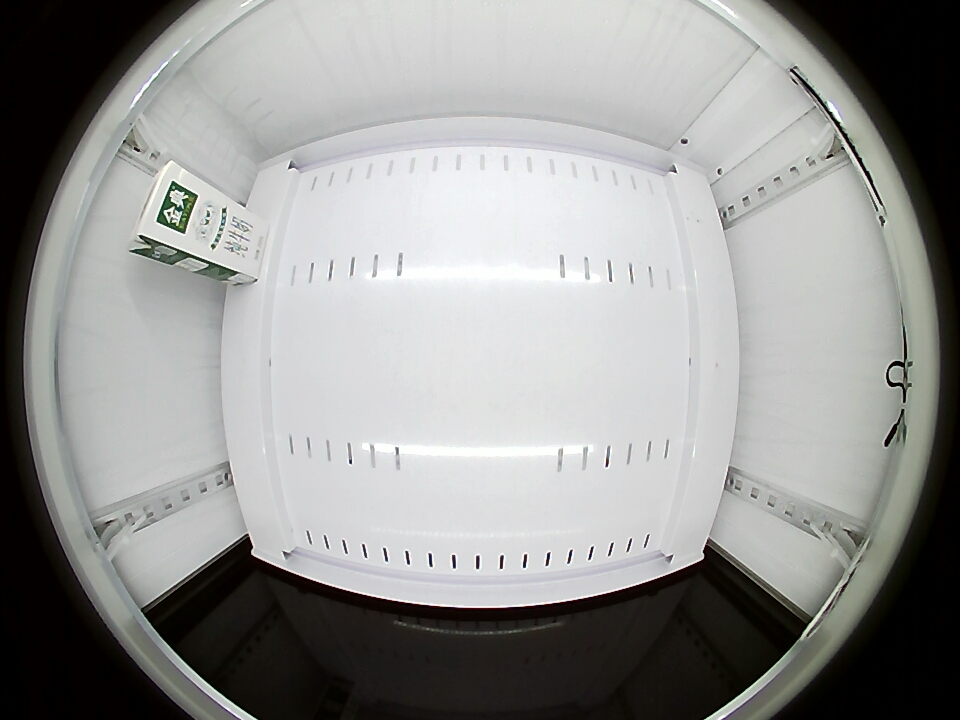jindian: (130, 161, 207, 263)
